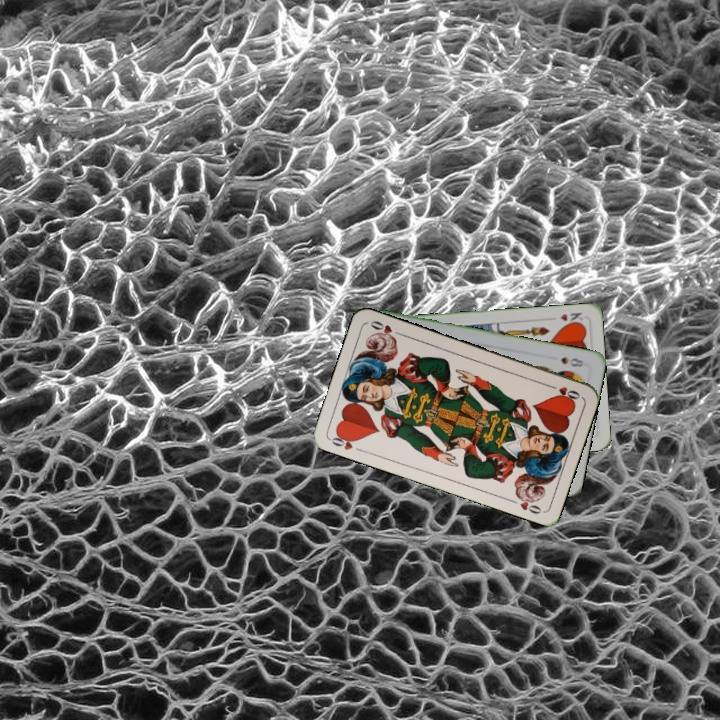HK: (556, 308, 585, 327)
HO: (544, 380, 583, 402), (327, 429, 361, 453)
S8: (557, 353, 589, 370)
